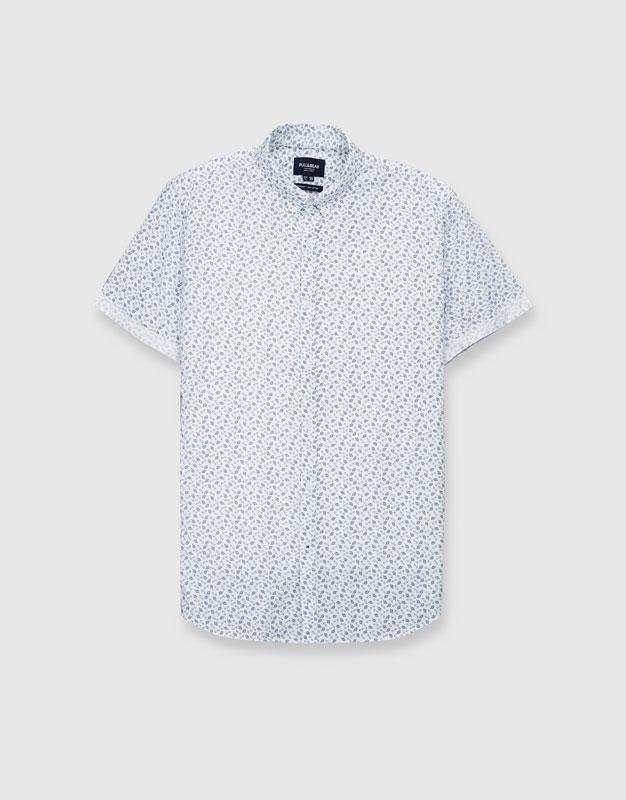teeshirt: (105, 119, 540, 674)
